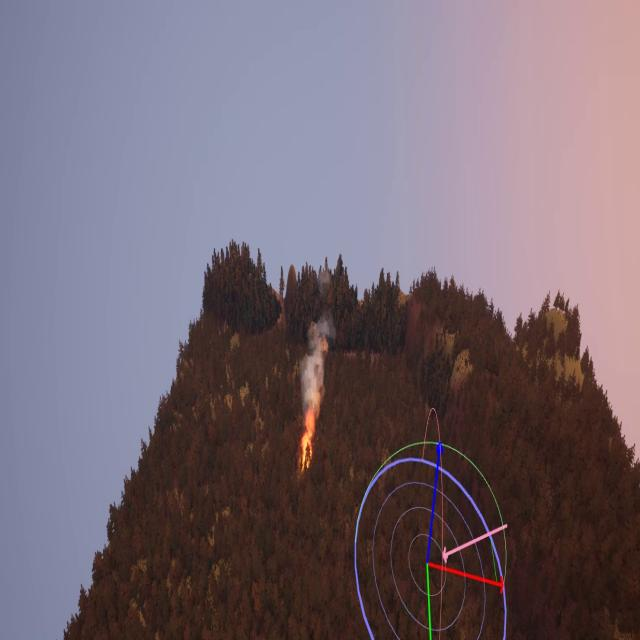fire: (300, 409, 318, 469)
smoke: (301, 310, 335, 412)
